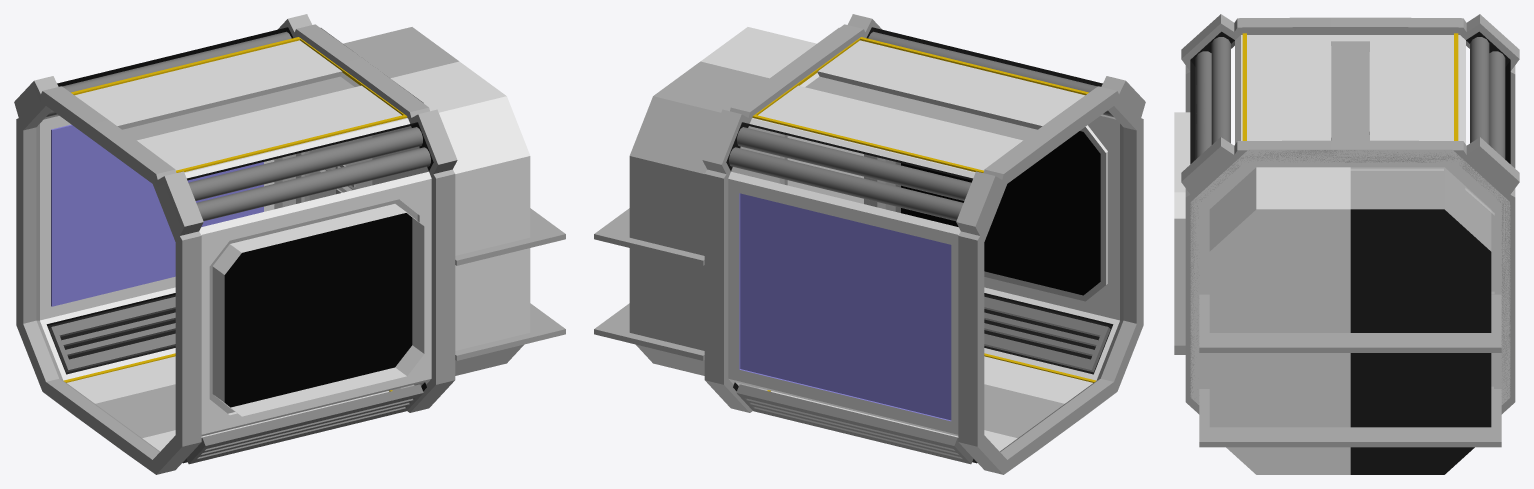
Rendered from Corridor_Security+Window.fbx.
3 views of the same model, side by side, from view 1: azimuth 30°, elevation 25°; view 2: azimuth 150°, elevation 25°; view 3: azimuth 270°, elevation 25° (orthographic).
Visible parts, largest first — view 1: Couloir_Security, Couloir_Security.004, Corridor_Security_Lights.001; view 2: Couloir_Security, Couloir_Security.004, Corridor_Security_Lights.001; view 3: Couloir_Security, Corridor_Security_Lights.001.
Boxes of the visible parts, <box> form: Couloir_Security: <box>14,14,565,474</box>; Couloir_Security.004: <box>51,124,263,306</box>; Corridor_Security_Lights.001: <box>63,37,407,391</box>; Couloir_Security: <box>594,14,1145,474</box>; Couloir_Security.004: <box>739,193,951,421</box>; Corridor_Security_Lights.001: <box>752,37,1096,391</box>; Couloir_Security: <box>1174,14,1519,474</box>; Corridor_Security_Lights.001: <box>1242,33,1458,140</box>.
Bounding box in the file's own units: 572 × 428 × 442.
